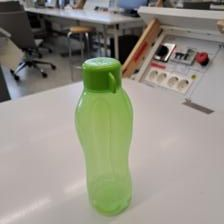bottle: (75, 56, 137, 220)
